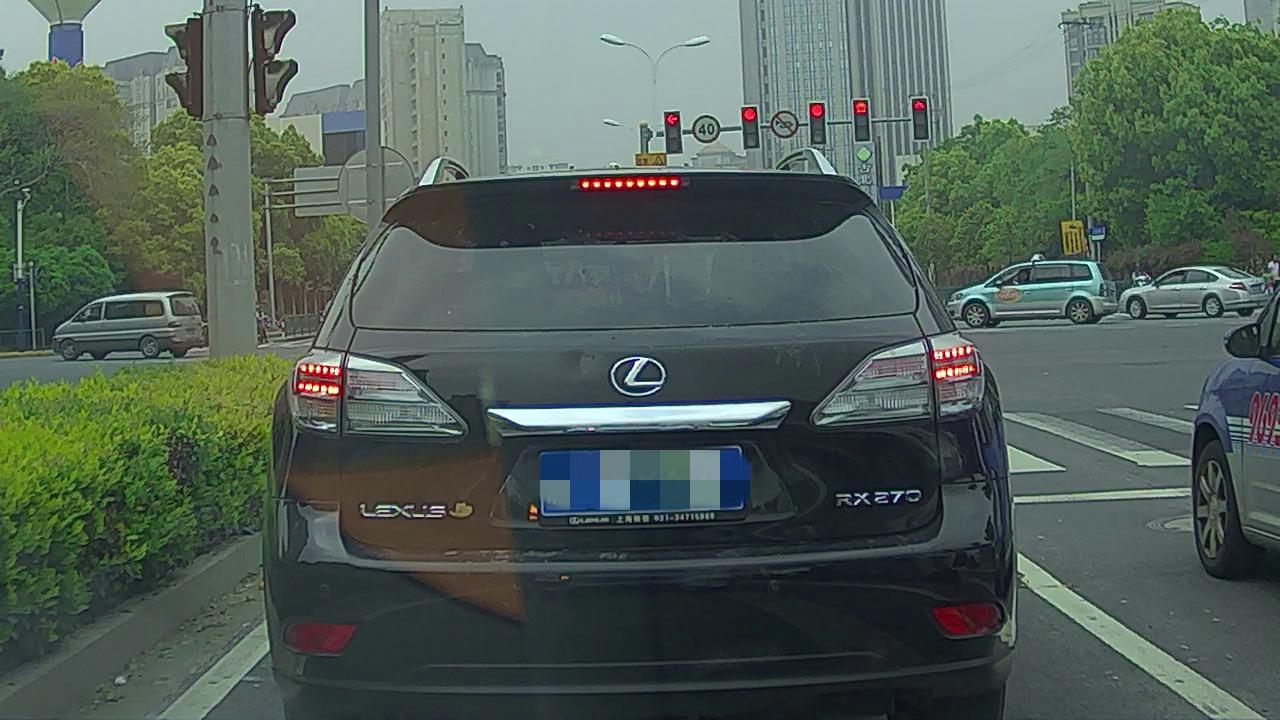traffic_light: (742, 107, 761, 149), (664, 113, 683, 154), (809, 102, 827, 143), (913, 97, 928, 141), (854, 100, 869, 142)
